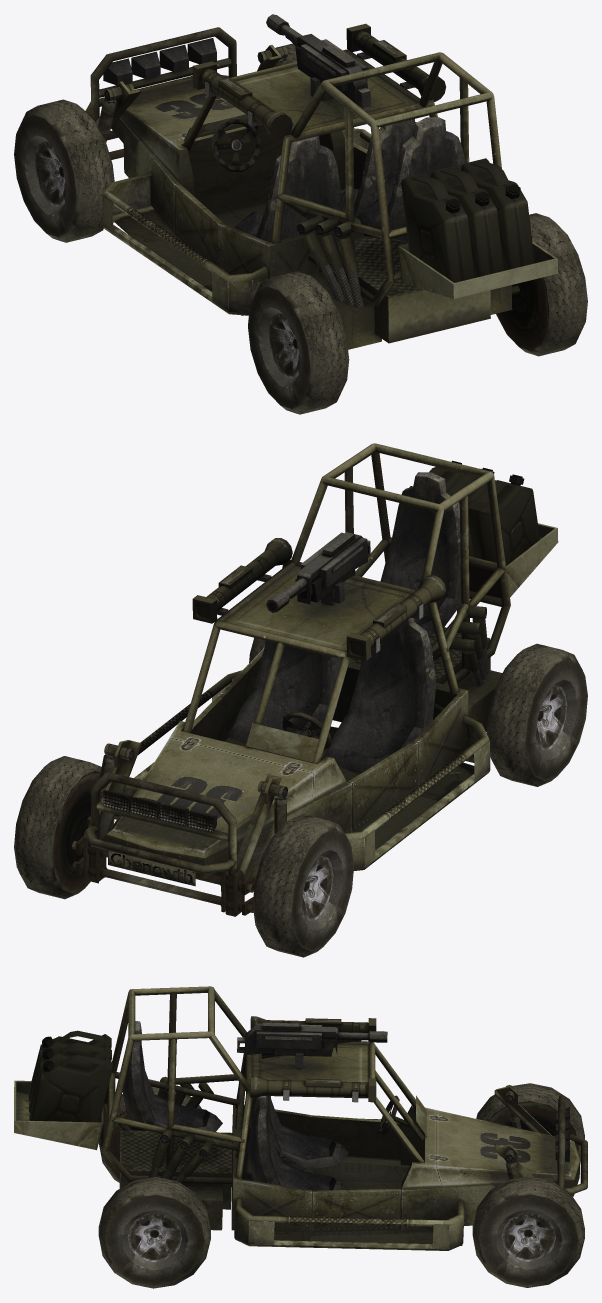
The model's file is Buggy.FBX.
3 renders of one model, top to bottom at view 1: azimuth 30°, elevation 25°; view 2: azimuth 150°, elevation 25°; view 3: azimuth 270°, elevation 25°, orthographic. The views are drawn at different scales.
Parts seen in each view (by area): view 1: buggy; view 2: buggy; view 3: buggy.
Boxes of the visible parts, x1,y1,x2,y2 form: buggy: (14,14,587,414); buggy: (14,443,587,957); buggy: (14,986,587,1288).
Bounding box in the file's own units: 2.05 × 4.59 × 2.01.
